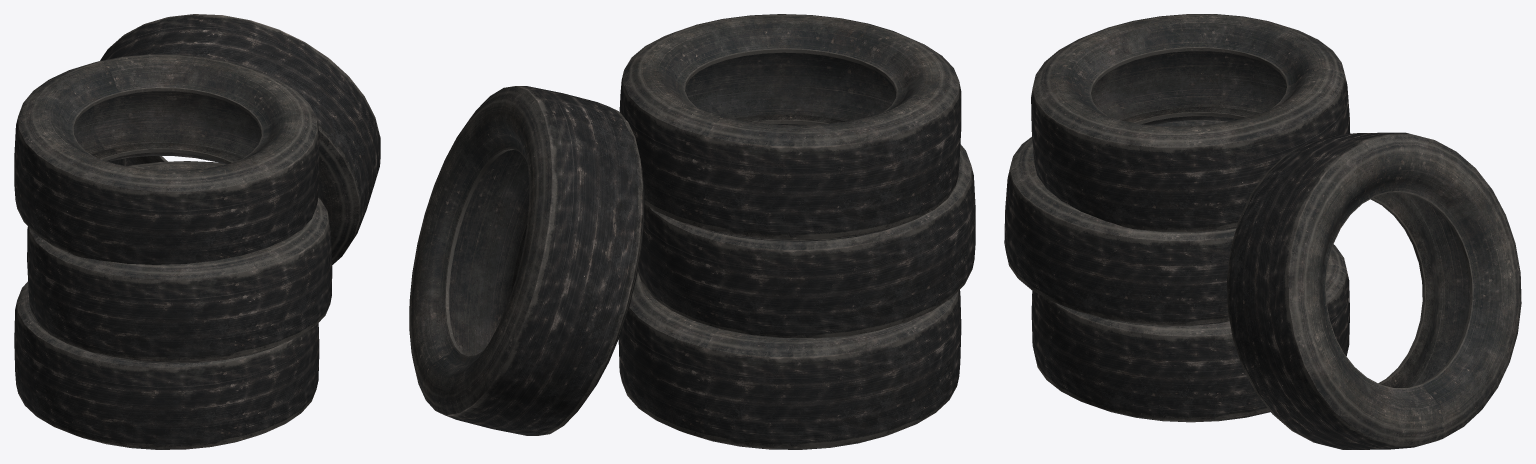
The model's file is game_ready__free_car_tires.glb.
3 views of the same model, side by side, from view 1: azimuth 30°, elevation 25°; view 2: azimuth 150°, elevation 25°; view 3: azimuth 270°, elevation 25° (orthographic). The views are drawn at different scales.
Parts seen in each view (by area): view 1: Car_Tire_03_Car_Tire_0, Car_Tire_02_Car_Tire_0, Car_Tire_01_Car_Tire_0, Car_Tire_04_Car_Tire_0; view 2: Car_Tire_03_Car_Tire_0, Car_Tire_04_Car_Tire_0, Car_Tire_01_Car_Tire_0, Car_Tire_02_Car_Tire_0; view 3: Car_Tire_04_Car_Tire_0, Car_Tire_03_Car_Tire_0, Car_Tire_02_Car_Tire_0, Car_Tire_01_Car_Tire_0.
Boxes of the visible parts, box(x1,y1,x2,y2) form: Car_Tire_03_Car_Tire_0: box(14, 54, 319, 264); Car_Tire_02_Car_Tire_0: box(27, 161, 332, 363); Car_Tire_01_Car_Tire_0: box(14, 281, 319, 449); Car_Tire_04_Car_Tire_0: box(100, 14, 380, 264); Car_Tire_03_Car_Tire_0: box(619, 14, 961, 241); Car_Tire_04_Car_Tire_0: box(409, 86, 644, 435); Car_Tire_01_Car_Tire_0: box(618, 272, 961, 449); Car_Tire_02_Car_Tire_0: box(637, 144, 975, 338); Car_Tire_04_Car_Tire_0: box(1227, 132, 1521, 449); Car_Tire_03_Car_Tire_0: box(1031, 14, 1350, 232); Car_Tire_02_Car_Tire_0: box(1004, 120, 1236, 326); Car_Tire_01_Car_Tire_0: box(1031, 244, 1349, 422).
Bounding box in the file's own units: 1.04 × 0.7036 × 1.12.
1 material, 1 textured.
